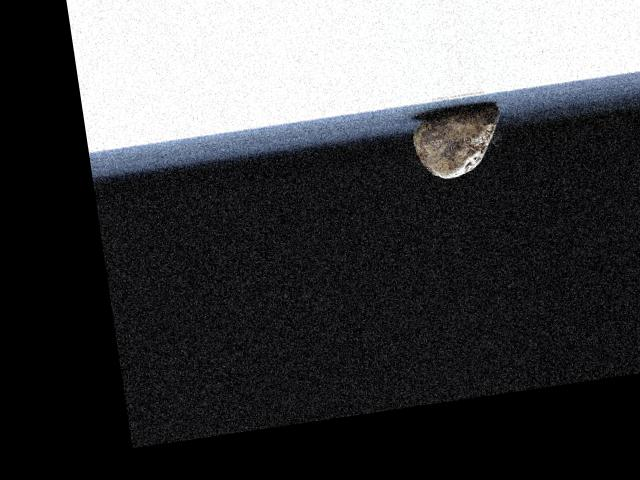beet: (408, 103, 506, 182)
